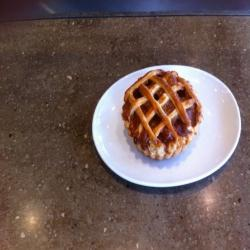apple_pie: (103, 60, 214, 172)
